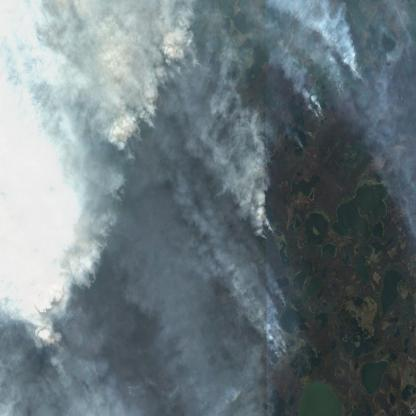fire: (38, 0, 370, 393)
